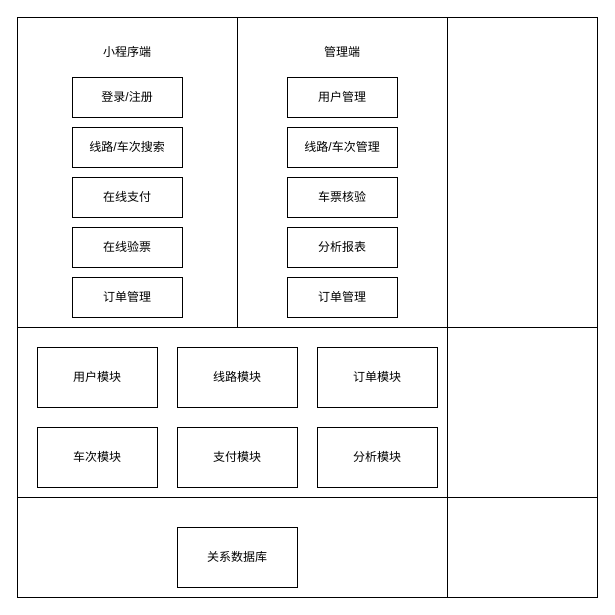
Some shapes in this 615 by 615 pixel diagram are drawn without their labels. The centre of each missing label's shape, as x and y in pixels:
"业务层" goes at point 522,412.
"持久层" goes at point 522,547.
"用户层" goes at point 522,172.
